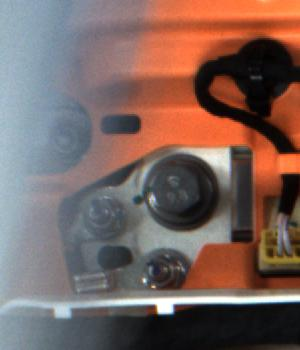nut_b: (136, 149, 225, 229)
